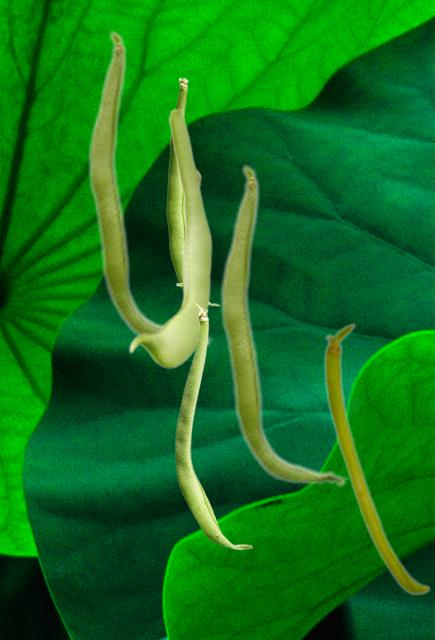french_bean: (218, 163, 347, 487), (86, 29, 212, 347), (323, 322, 430, 595), (128, 107, 211, 367), (175, 302, 252, 549), (166, 77, 218, 305)
